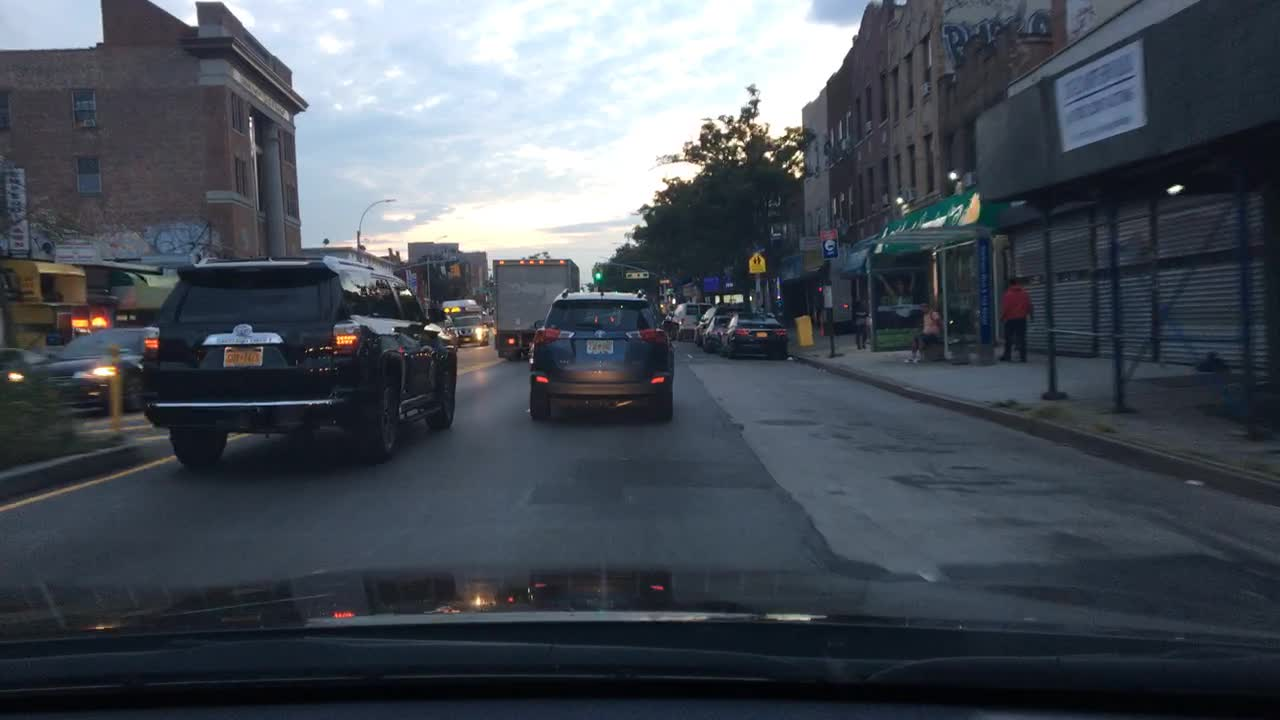car: (4, 322, 157, 417), (714, 307, 790, 359), (689, 300, 746, 349), (666, 300, 714, 342), (1, 344, 42, 379), (450, 313, 489, 347), (438, 296, 482, 326), (698, 313, 729, 355), (436, 312, 462, 347), (480, 318, 498, 338), (662, 307, 674, 321)
person: (997, 273, 1037, 362), (902, 301, 943, 366), (850, 291, 871, 351)
rider: (137, 252, 462, 475), (525, 285, 678, 425)
traffic light: (591, 267, 605, 281), (446, 262, 456, 276)
traffic sign: (816, 228, 841, 258), (746, 252, 767, 273), (819, 278, 833, 309), (623, 270, 651, 280), (657, 277, 671, 286)
truck: (489, 255, 581, 365)
